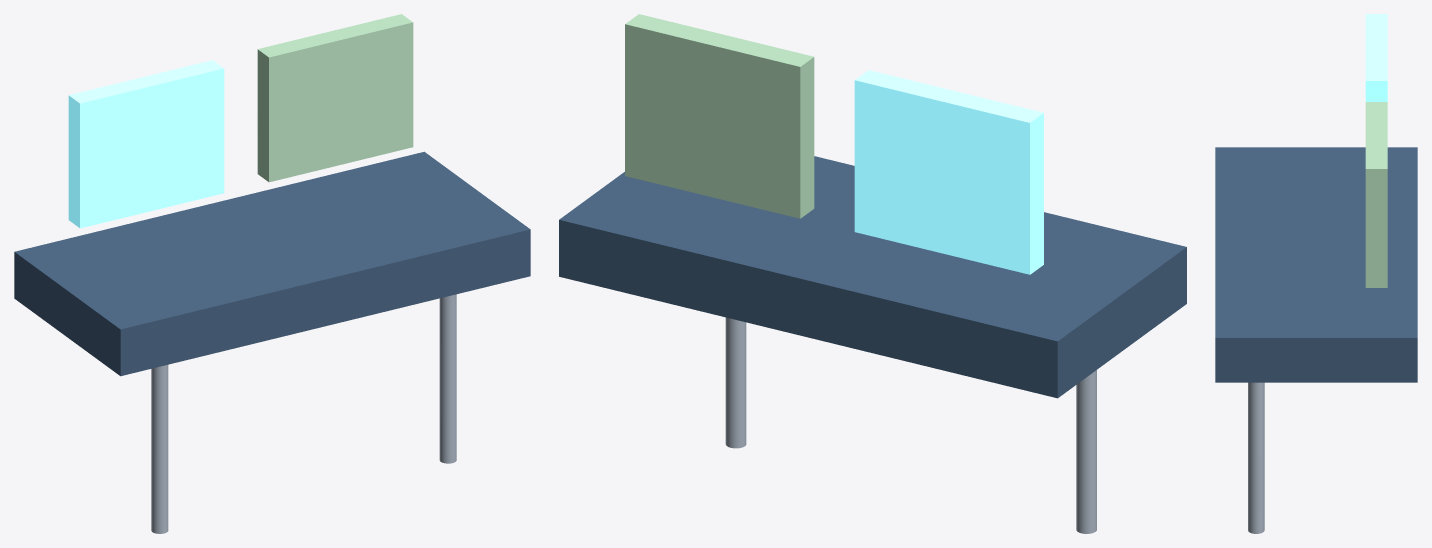
Rendered from mini-command-desk.glb.
3 renders of one model, left to right at view 1: azimuth 30°, elevation 25°; view 2: azimuth 150°, elevation 25°; view 3: azimuth 270°, elevation 25°, orthographic. The views are drawn at different scales.
Parts seen in each view (by area): view 1: mini-command-desk-desk-top, mini-command-desk-screen-left, mini-command-desk-screen-right, mini-command-desk-right-leg, mini-command-desk-left-leg; view 2: mini-command-desk-desk-top, mini-command-desk-screen-left, mini-command-desk-screen-right, mini-command-desk-left-leg, mini-command-desk-right-leg; view 3: mini-command-desk-desk-top, mini-command-desk-screen-right, mini-command-desk-right-leg, mini-command-desk-screen-left.
Part boxes in pixels (left/top/right/bottom): mini-command-desk-desk-top: left=14, top=151, right=530, bottom=376; mini-command-desk-screen-left: left=68, top=60, right=224, bottom=228; mini-command-desk-screen-right: left=257, top=14, right=413, bottom=182; mini-command-desk-right-leg: left=439, top=294, right=456, bottom=463; mini-command-desk-left-leg: left=151, top=365, right=168, bottom=533; mini-command-desk-desk-top: left=559, top=156, right=1186, bottom=398; mini-command-desk-screen-left: left=854, top=70, right=1043, bottom=274; mini-command-desk-screen-right: left=625, top=14, right=814, bottom=218; mini-command-desk-left-leg: left=1076, top=370, right=1096, bottom=533; mini-command-desk-right-leg: left=725, top=317, right=746, bottom=448; mini-command-desk-desk-top: left=1215, top=147, right=1417, bottom=382; mini-command-desk-screen-right: left=1365, top=102, right=1387, bottom=287; mini-command-desk-right-leg: left=1248, top=382, right=1264, bottom=533; mini-command-desk-screen-left: left=1365, top=14, right=1387, bottom=101.
Size of the model in its own units: 1.65 by 1.5 by 0.74.
